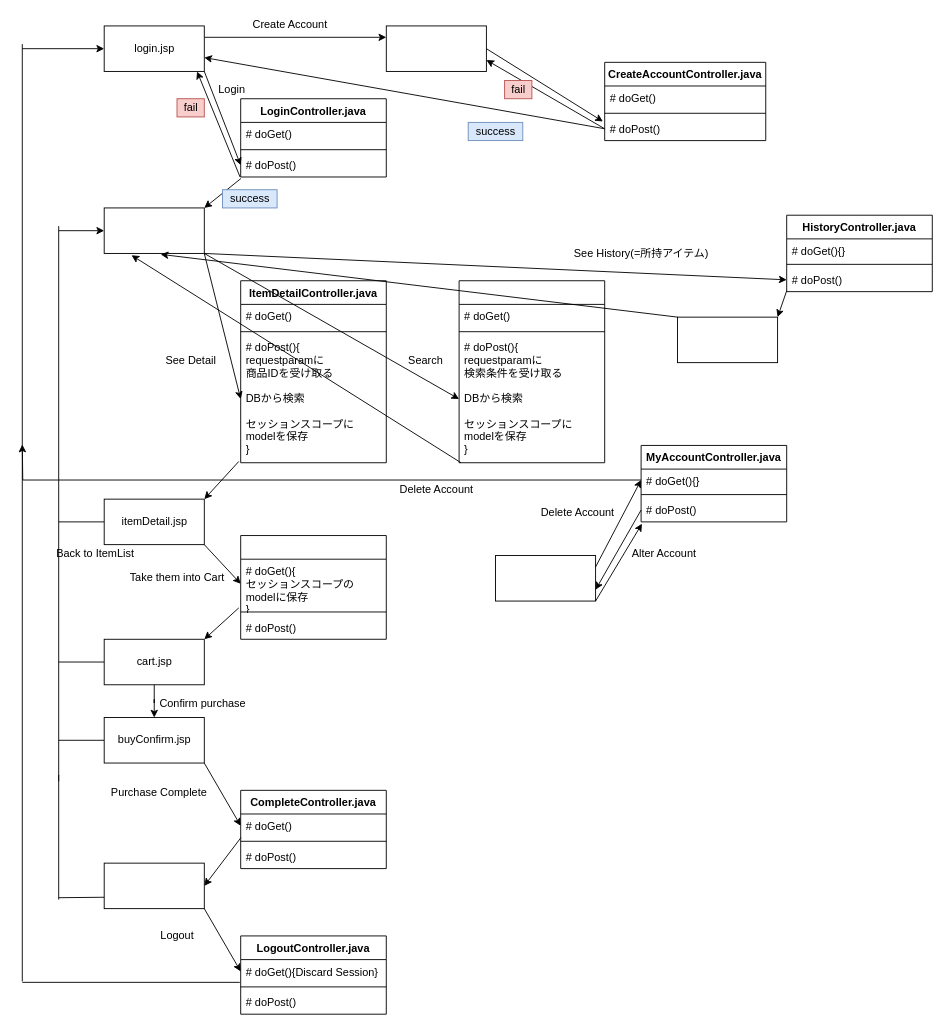
The diagram is 948 pixels wide and 1032 high, and some of its shapes have lost their labels. Each missing label, with the box of its shape:
CartController.java: (240, 535, 386, 639)
comleted.jsp: (103, 862, 204, 909)
createaccount.jsp: (385, 25, 486, 71)
holdings.jsp: (677, 316, 778, 363)
itemList.jsp: (103, 207, 204, 253)
ItemSearchController.java: (458, 280, 605, 463)
myaccount.jsp: (495, 555, 596, 601)
